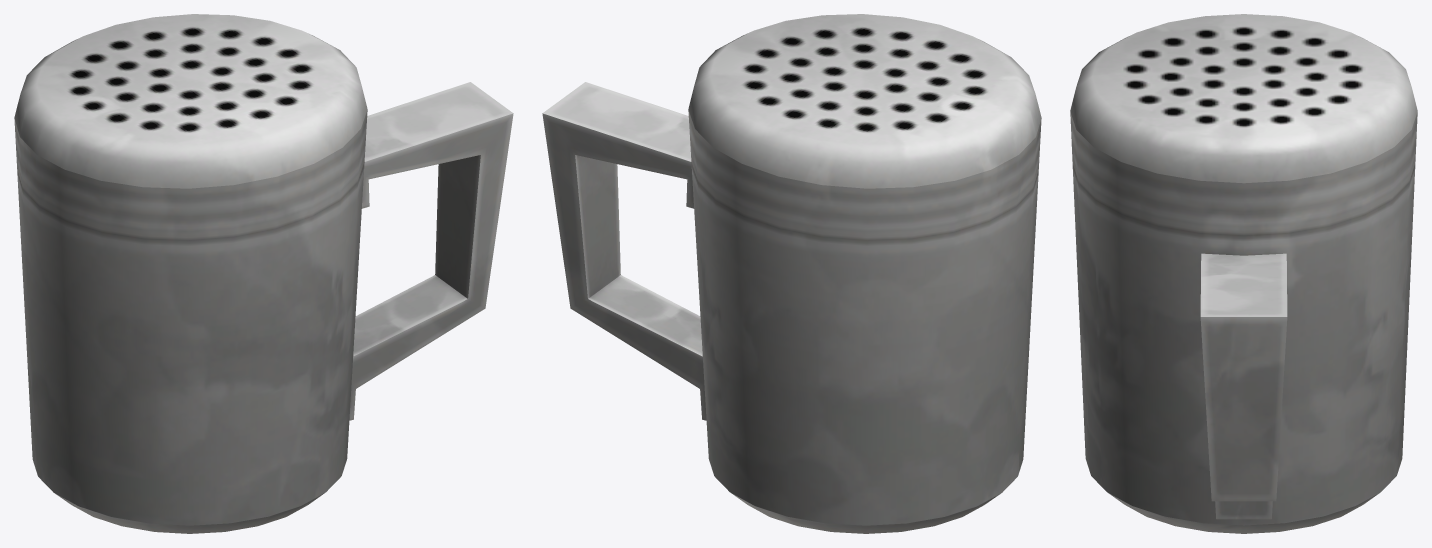
File: SM_SpiceShaker.glb
3 renders of one model, left to right at view 1: azimuth 30°, elevation 25°; view 2: azimuth 150°, elevation 25°; view 3: azimuth 270°, elevation 25°, orthographic.
Parts seen in each view (by area): view 1: SM_SpiceShaker; view 2: SM_SpiceShaker; view 3: SM_SpiceShaker.
Part boxes in pixels (x1,y1,x2,y2): SM_SpiceShaker: (14, 14, 513, 533); SM_SpiceShaker: (542, 14, 1041, 533); SM_SpiceShaker: (1070, 14, 1417, 533).
Size of the model in its own units: 0.1311 by 0.11 by 0.086.
Materials: 1 (1 with a texture image).
